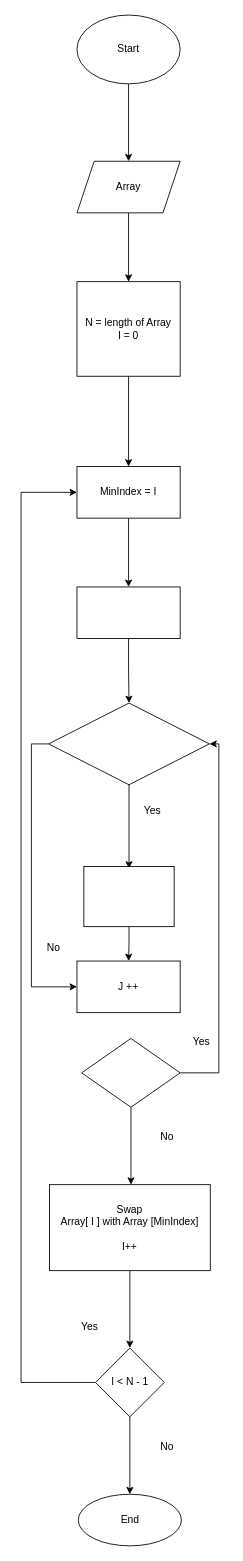
This 243x1561 diagram has some shape labels left out. Here are the shapes that lost their labels. From the top down, the centre of each, then its label:
At (x=128, y=612): "J = I + 1".
At (x=128, y=743): "Array[j] > Array[MinIndex]".
At (x=128, y=896): "MinIndex = J".
At (x=130, y=1072): "J < N".
